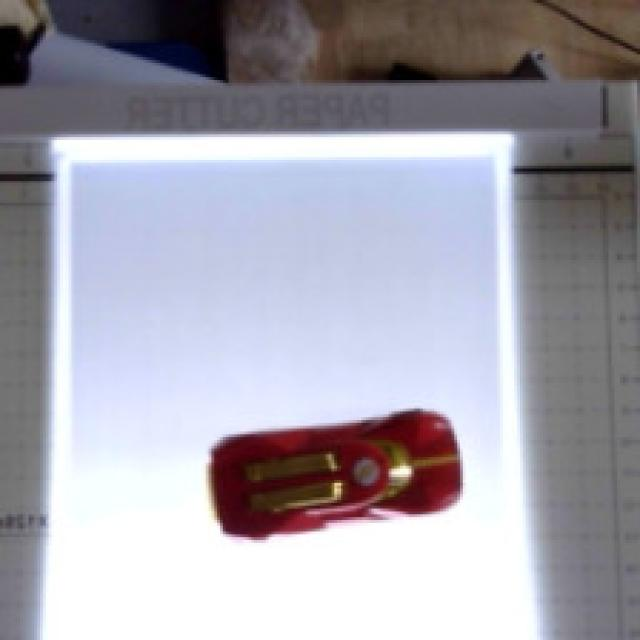Red Car: (164, 368, 499, 593)
